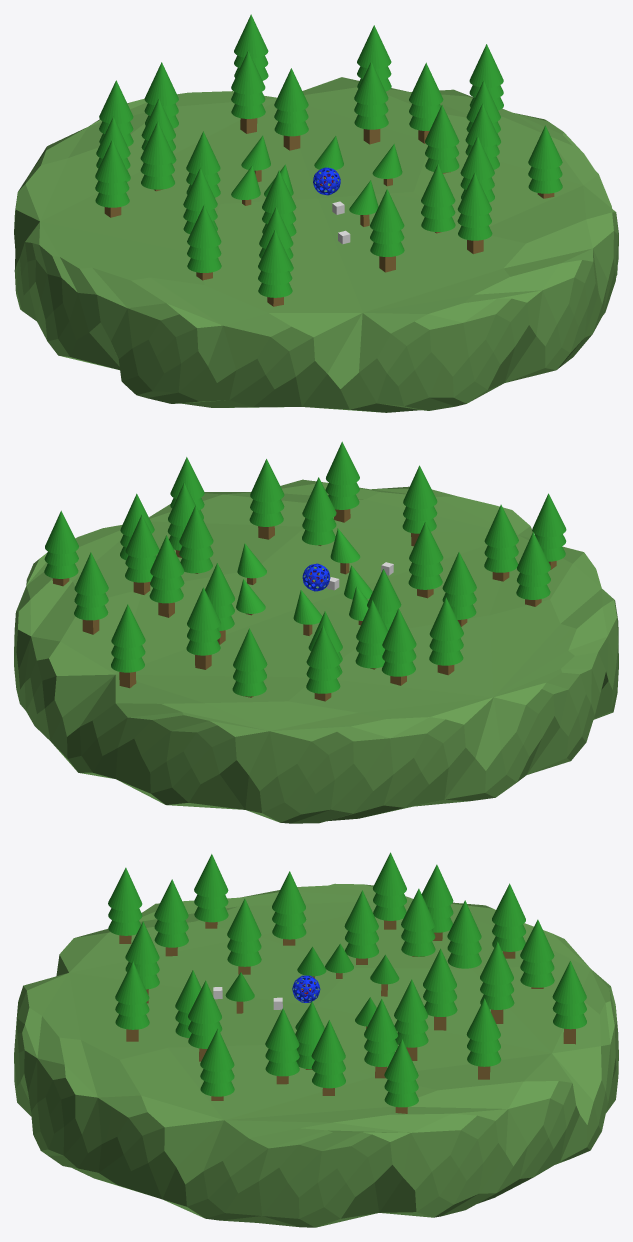
File: simple_scene.glb
The picture shows the model from 3 angles, top to bottom: view 1: azimuth 30°, elevation 25°; view 2: azimuth 150°, elevation 25°; view 3: azimuth 270°, elevation 25°; orthographic projection.
Visible parts, largest first — view 1: Cylinder, Cone.001, Cone.002, Cone.027, Cone.020, Cone.009, Cone.021, Cone.024, Cone.023, Cone.007, Cone.025, Cone.022 (+22 smaller); view 2: Cylinder, Cone.011, Cone.010, Cone.001, Cone.002, Cone.018, Cone.021, Cone.006, Cone.003, Cone.009, Cone.012, Cone.015 (+21 smaller); view 3: Cylinder, Cone.011, Cone.009, Cone.020, Cone.010, Cone.001, Cone.006, Cone.026, Cone.015, Cone.021, Cone.008, Cone.017 (+21 smaller).
Part boxes in pixels (x1,y1,x2,y2): Cylinder: [14, 77, 618, 412]; Cone.001: [231, 50, 265, 133]; Cone.002: [354, 61, 388, 144]; Cone.027: [370, 189, 404, 272]; Cone.020: [274, 68, 308, 150]; Cone.009: [457, 172, 492, 253]; Cone.021: [95, 139, 129, 217]; Cone.024: [258, 229, 292, 306]; Cone.023: [187, 205, 221, 280]; Cone.007: [528, 125, 562, 198]; Cone.025: [421, 164, 455, 233]; Cone.022: [140, 121, 174, 191]; Cylinder: [14, 479, 618, 823]; Cone.011: [111, 604, 145, 688]; Cone.010: [74, 552, 108, 634]; Cone.001: [186, 587, 221, 669]; Cone.002: [149, 535, 184, 617]; Cone.018: [249, 459, 284, 539]; Cone.021: [429, 597, 463, 675]; Cone.006: [484, 504, 518, 581]; Cone.003: [382, 608, 416, 685]; Cone.009: [325, 441, 359, 522]; Cone.012: [306, 625, 340, 701]; Cone.015: [408, 521, 443, 598]; Cylinder: [14, 883, 618, 1227]; Cone.011: [552, 961, 586, 1044]; Cone.009: [115, 961, 149, 1041]; Cone.020: [423, 948, 457, 1030]; Cone.010: [466, 998, 501, 1079]; Cone.001: [480, 941, 514, 1023]; Cone.006: [154, 879, 188, 956]; Cone.026: [265, 1008, 299, 1084]; Cone.015: [227, 898, 261, 974]; Cone.021: [373, 852, 406, 929]; Cone.008: [311, 1020, 345, 1095]; Cone.017: [384, 1039, 418, 1113].
Size of the model in its own units: 90.16 by 29.02 by 90.16.
